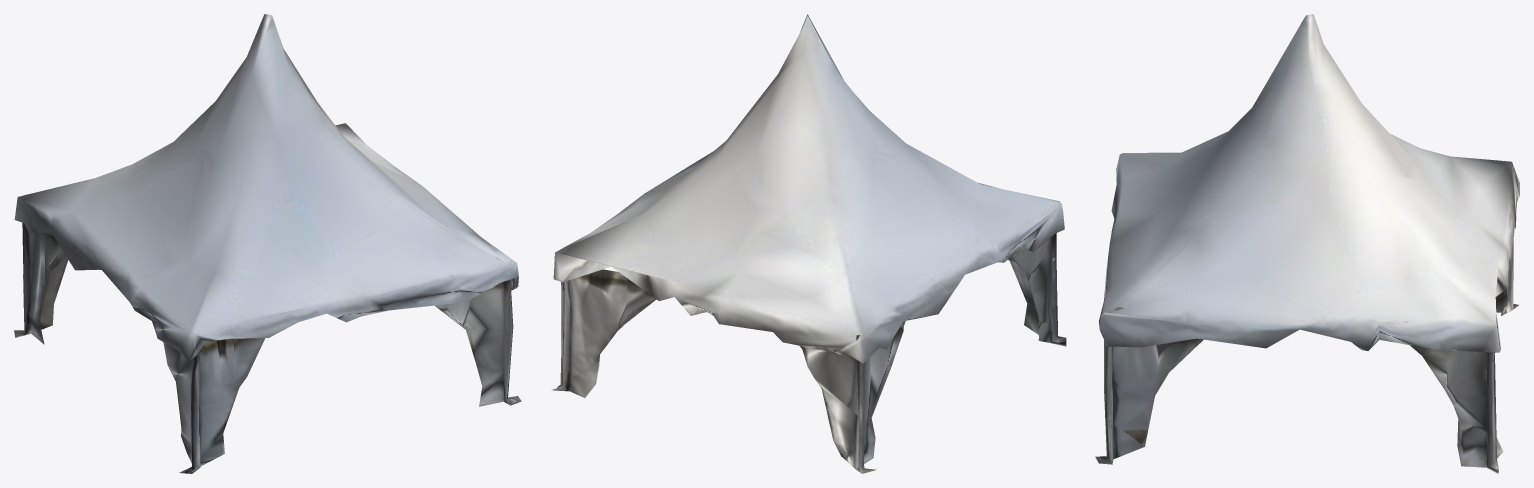
The model's file is zelt.glb.
The picture shows the model from 3 angles, left to right: view 1: azimuth 30°, elevation 25°; view 2: azimuth 150°, elevation 25°; view 3: azimuth 270°, elevation 25°; orthographic projection. The views are drawn at different scales.
Parts seen in each view (by area): view 1: tripo_node_d01c3475-35b6-496c-bb7f-5092baa4d6e7; view 2: tripo_node_d01c3475-35b6-496c-bb7f-5092baa4d6e7; view 3: tripo_node_d01c3475-35b6-496c-bb7f-5092baa4d6e7.
Boxes of the visible parts, bbox=[...] form: tripo_node_d01c3475-35b6-496c-bb7f-5092baa4d6e7: bbox=[14, 14, 521, 473]; tripo_node_d01c3475-35b6-496c-bb7f-5092baa4d6e7: bbox=[551, 14, 1066, 473]; tripo_node_d01c3475-35b6-496c-bb7f-5092baa4d6e7: bbox=[1095, 14, 1519, 473].
Size of the model in its own units: 0.9694 by 0.9485 by 0.981.
1 material, 1 textured.
